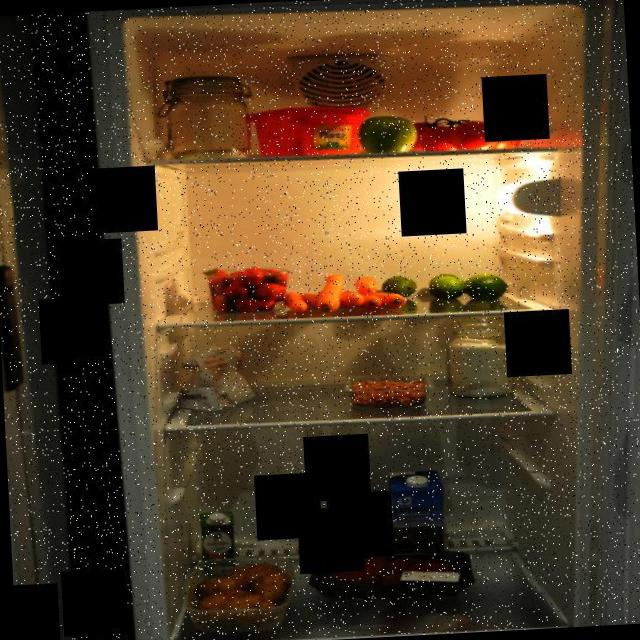Carne vacuno: (305, 542, 479, 604)
Gambas/Langostinos: (346, 372, 431, 410)
Leche: (386, 466, 452, 565)
Mantequilla: (244, 101, 375, 160)
Manzana: (355, 110, 421, 158)
Patata: (181, 551, 297, 636)
Tomate: (408, 107, 526, 156)
Zanahoria: (280, 268, 410, 318)
flour: (148, 66, 258, 168), (164, 336, 266, 420)
heavy_cream: (198, 509, 236, 578)
strawberries: (204, 261, 292, 316)
sugar: (442, 311, 518, 401)
